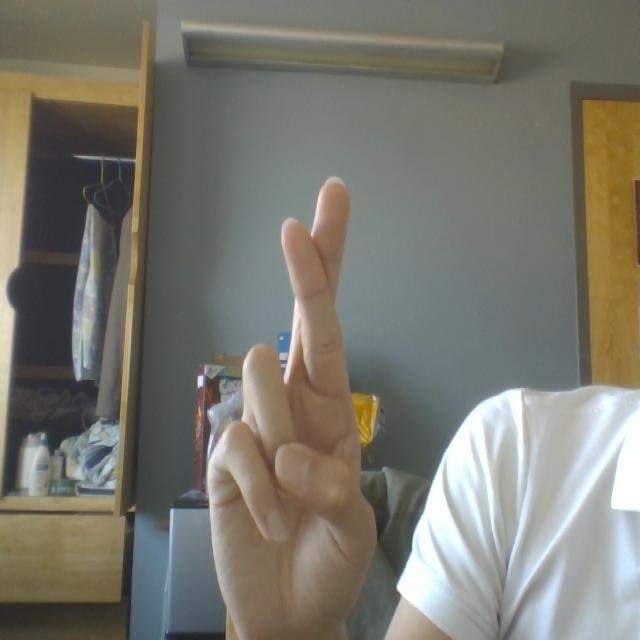R: (193, 132, 420, 640)
